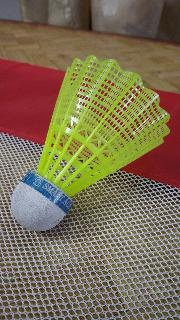shuttlecock: (10, 55, 170, 233)
